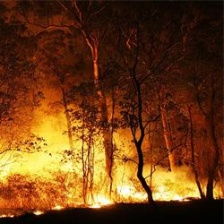fire: (1, 164, 222, 220)
